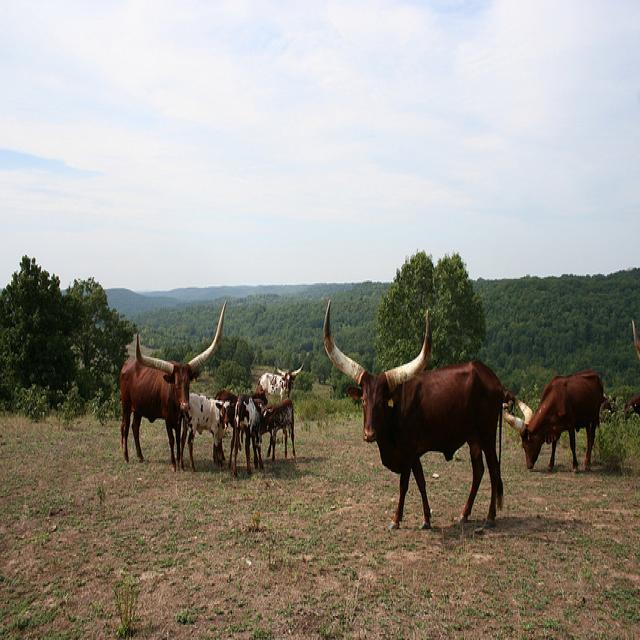cow: (324, 298, 507, 531), (118, 297, 227, 472), (502, 366, 601, 472), (177, 391, 232, 471), (232, 391, 266, 474), (258, 396, 294, 459), (254, 361, 303, 399), (213, 388, 237, 426), (597, 391, 610, 417)
